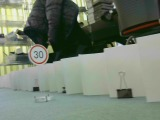speed_30: (28, 44, 49, 65)
